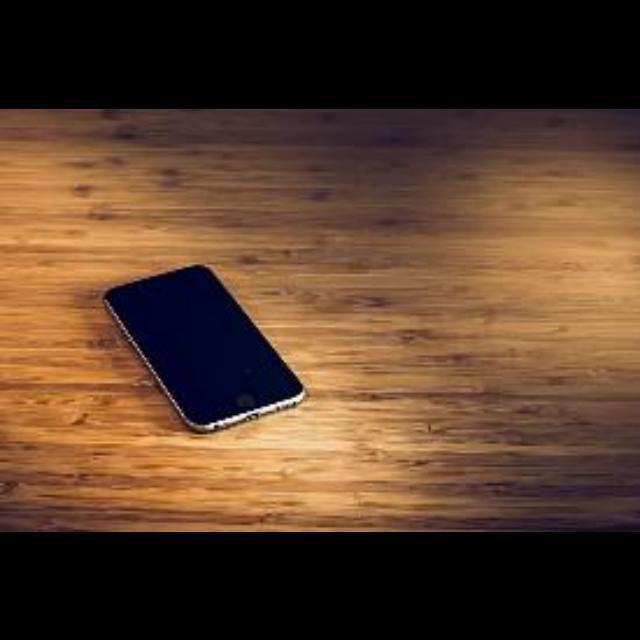PhoneUse: (104, 266, 306, 434)
